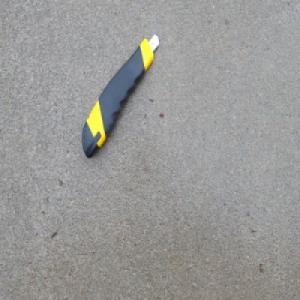Cutter: (82, 31, 160, 159)
